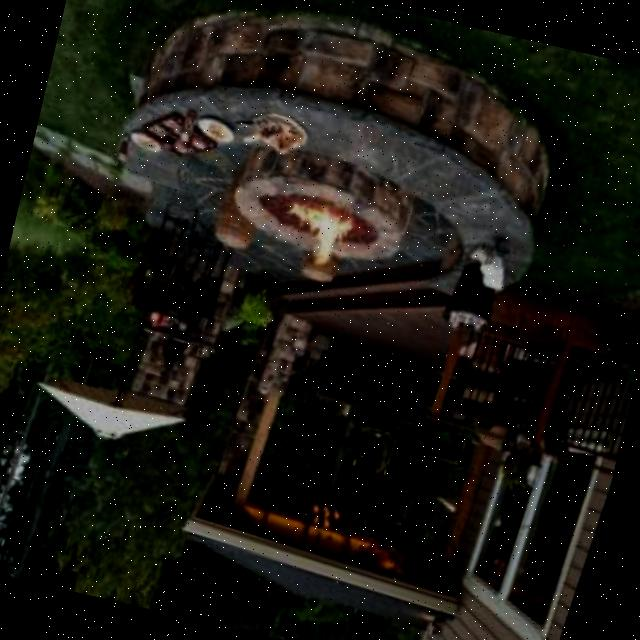fire: (276, 187, 361, 277)
